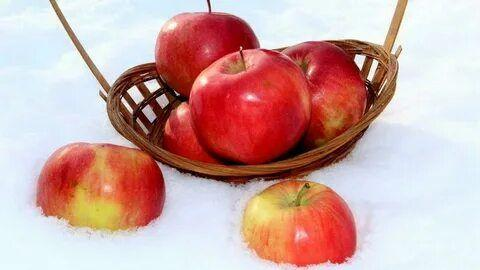Apple: (190, 47, 311, 163)
